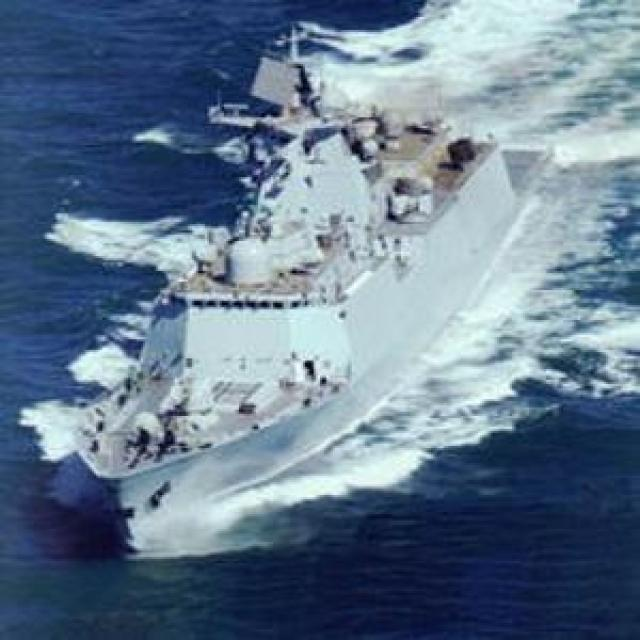navalvessels: (44, 48, 567, 542)
